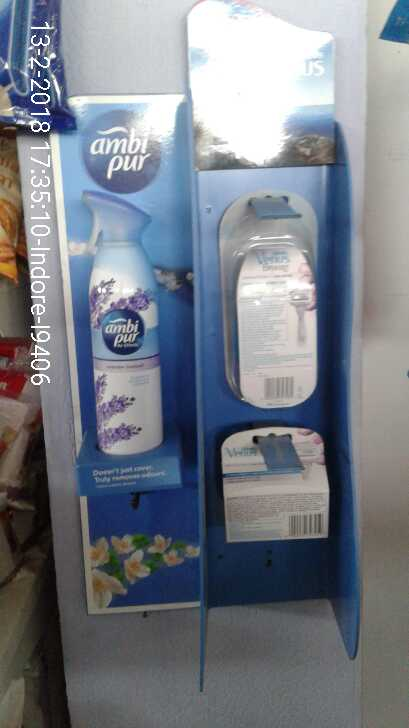ambipur: (80, 188, 165, 461)
